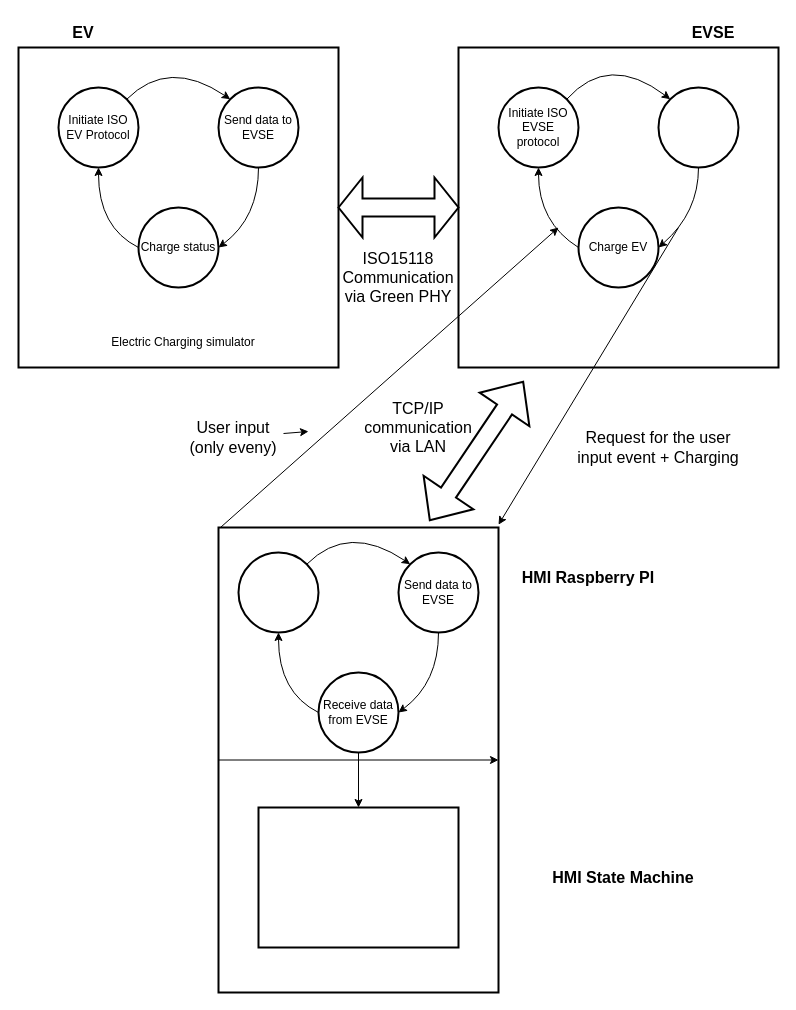
Some shapes in this 796 by 1010 pixel diagram are drawn without their labels. The shapes that lost their labels are listed below. From the top down, each one's centre as x and y in pixels, then its label:
(x=698, y=127): Detect EV
(x=278, y=592): Initiate HMI
(x=358, y=877): Touch Screen Display
